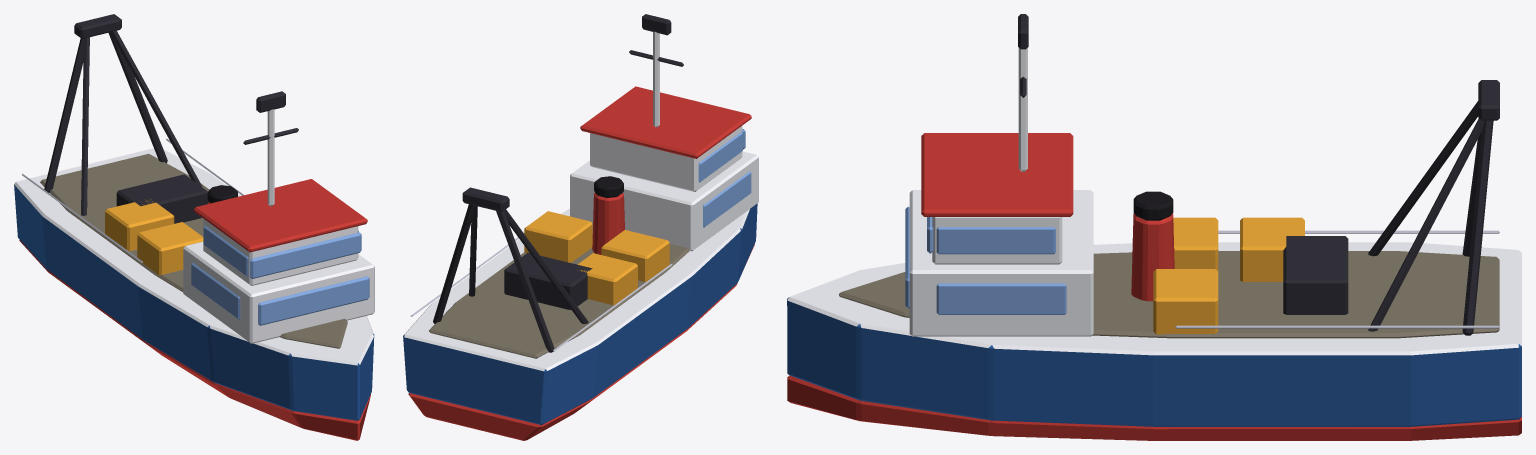
Rendered from trawler.glb.
The picture shows the model from 3 angles, left to right: view 1: azimuth 30°, elevation 25°; view 2: azimuth 150°, elevation 25°; view 3: azimuth 270°, elevation 25°; orthographic projection. The views are drawn at different scales.
Visible parts, largest first — view 1: Trawler; view 2: Trawler; view 3: Trawler.
Boxes of the visible parts, bbox=[...] form: Trawler: bbox=[14, 14, 374, 440]; Trawler: bbox=[403, 14, 758, 440]; Trawler: bbox=[787, 14, 1521, 440].
Bounding box in the file's own units: 1.22 × 1.94 × 3.39.
1 material, 1 textured.
